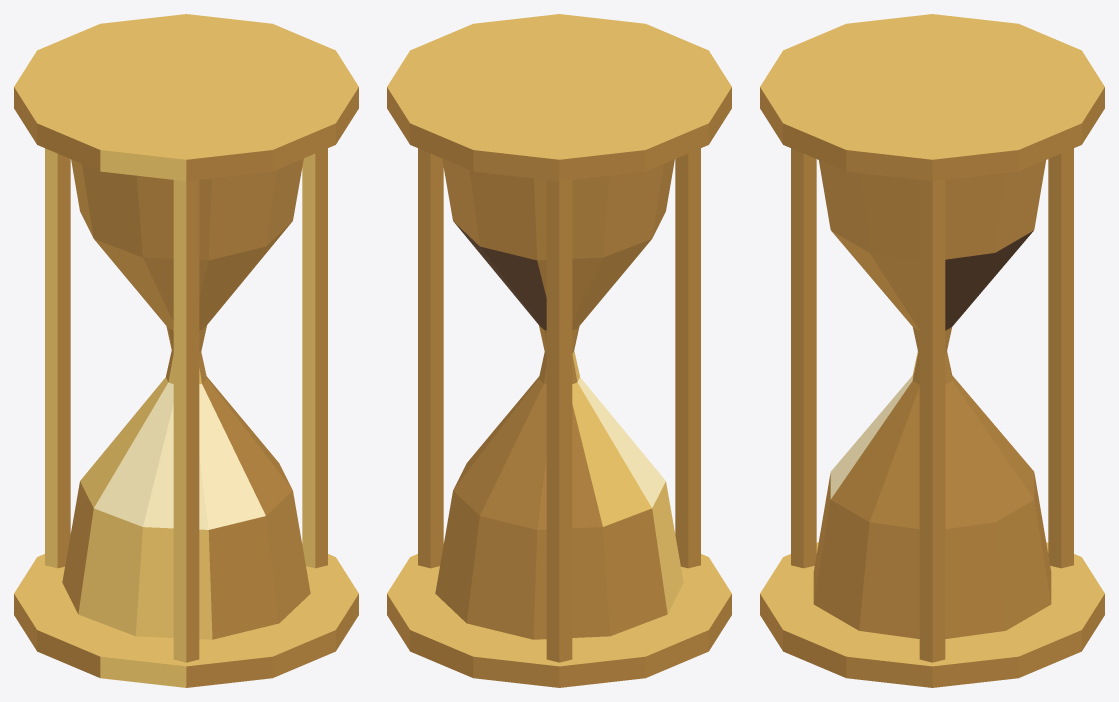
File: hourglass.glb
The picture shows the model from 3 angles, left to right: view 1: azimuth 30°, elevation 25°; view 2: azimuth 150°, elevation 25°; view 3: azimuth 270°, elevation 25°; orthographic projection.
Parts seen in each view (by area): view 1: hourglass; view 2: hourglass; view 3: hourglass.
Boxes of the visible parts, left/top/right/bottom form: hourglass: left=14, top=14, right=358, bottom=687; hourglass: left=387, top=14, right=731, bottom=687; hourglass: left=760, top=14, right=1104, bottom=687.
Bounding box in the file's own units: 1.16 × 1.96 × 1.16.
